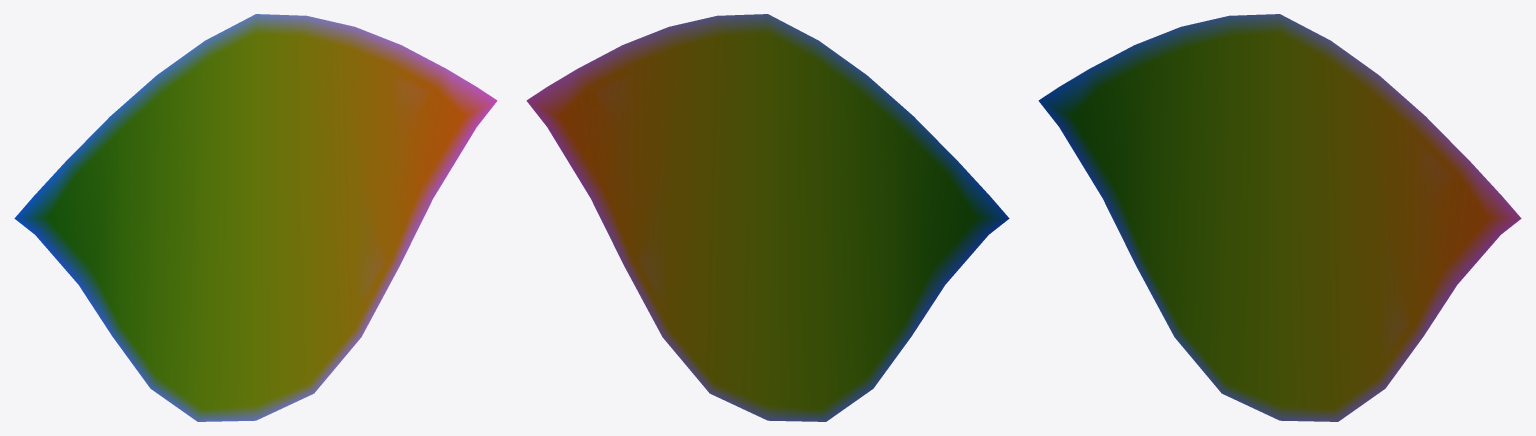
File: MouthStickerDog1.FBX
3 renders of one model, left to right at view 1: azimuth 30°, elevation 25°; view 2: azimuth 150°, elevation 25°; view 3: azimuth 330°, elevation 25°, orthographic.
Visible parts, largest first — view 1: Line006; view 2: Line006; view 3: Line006.
Boxes of the visible parts, bbox=[...] form: Line006: bbox=[14, 14, 497, 421]; Line006: bbox=[526, 14, 1009, 421]; Line006: bbox=[1038, 14, 1521, 421].
Bounding box in the file's own units: 0.8686 × 1.31e-07 × 0.6987.
